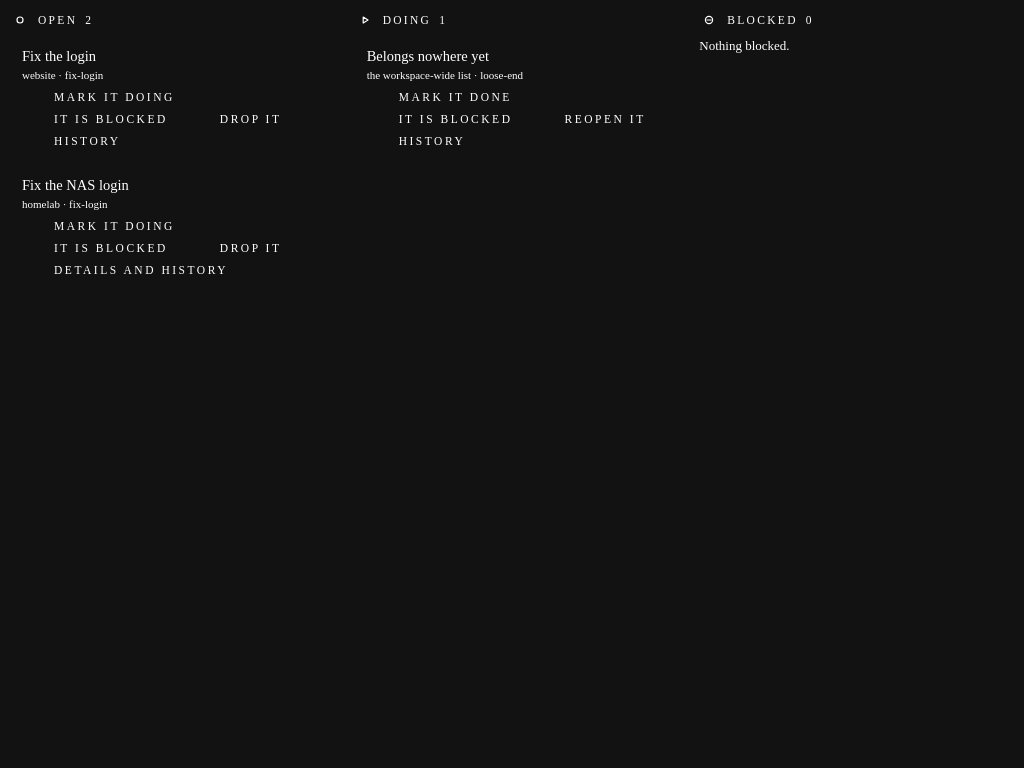
Test case: One task in full › says why when the task could not be read, and closes
What coordinates should you click on to do the following:
click the button "History" below "website · fix-login"
I would click on:
 (73, 141)
Its box is [22,131,125,151].
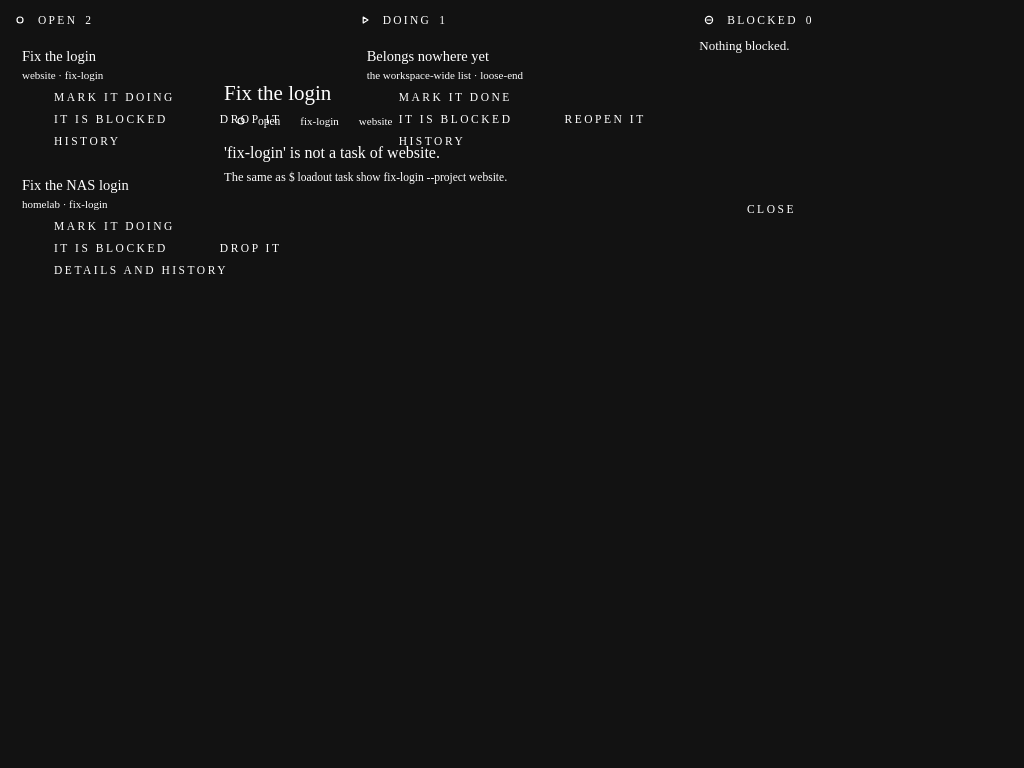
Now the message shows "is not a task of website", box [224,144,440,161]
What coordinates should you click on to do the following:
click the button "Close"
I would click on:
 (757, 209)
Its box is [715,199,800,219].
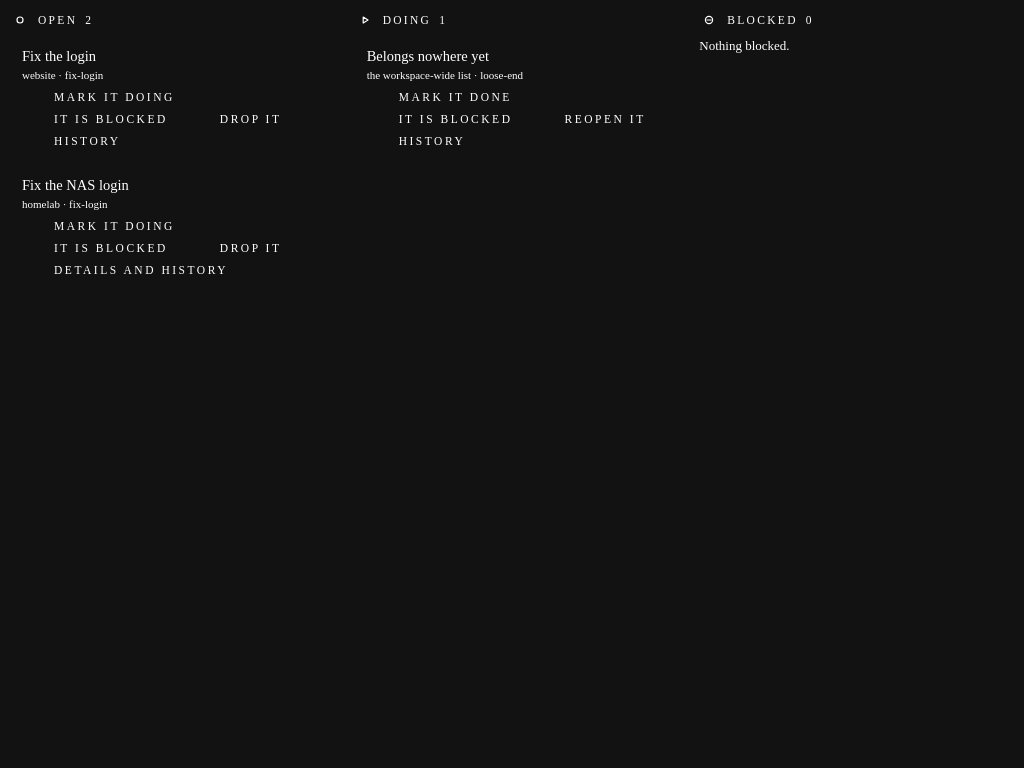
Now the dialog is gone
